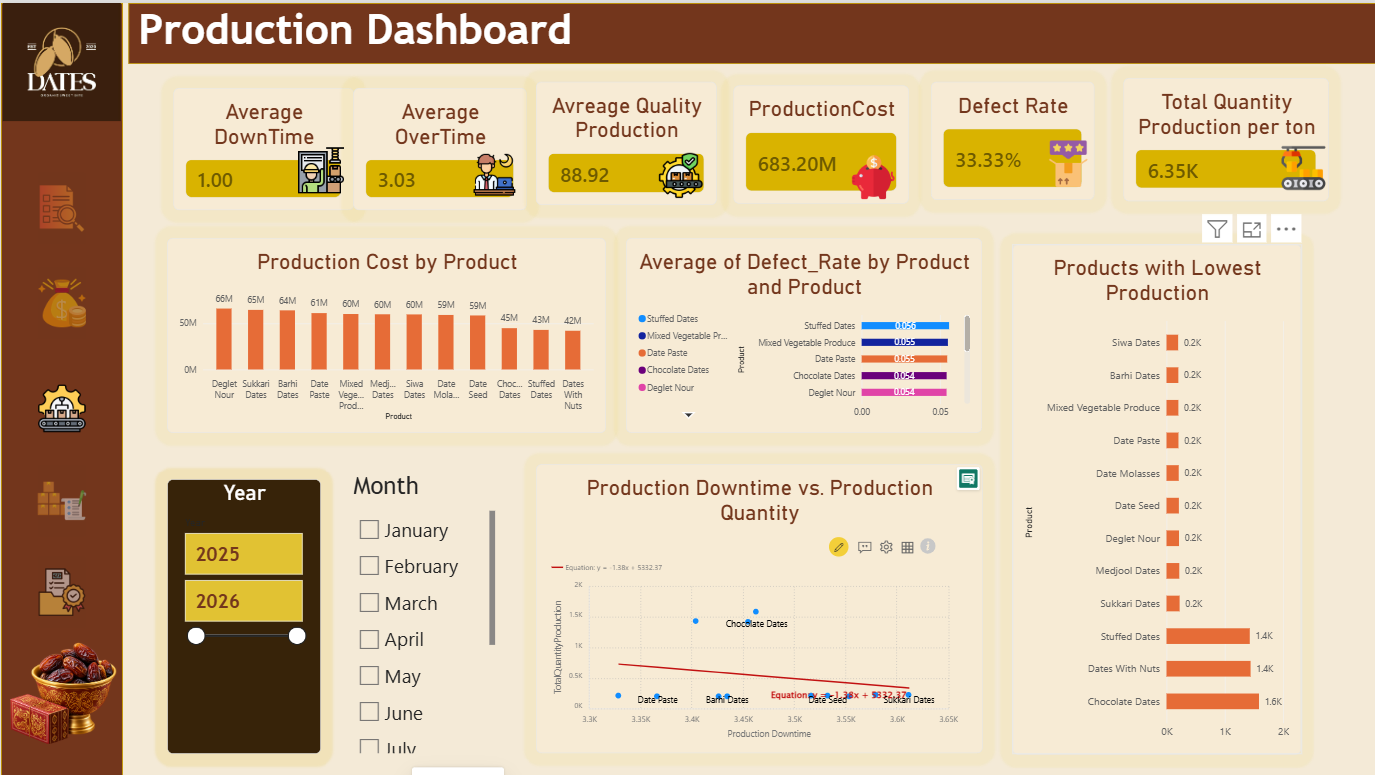

This screenshot's page, from the dashboard's own definition file:
{"tool":"powerbi","page":{"name":"Production","canvas":[1920,1080],"ordinal":2},"visuals":[{"type":"shape","box":[178,0,1741,85],"z":0},{"type":"shape","box":[0,0,170,1081],"z":1000},{"type":"image","box":[0,0,170,165],"z":2000},{"type":"textbox","title":"Production Dashboard","box":[191.7,1.7,741.7,116.7],"z":3000},{"type":"cardVisual","title":"Average DownTime","fields":{"Data":["MyMeasures.AVGDowntown"]},"box":[240,118.3,251.7,170],"z":4000},{"type":"cardVisual","title":"Average OverTime ","fields":{"Data":["MyMeasures.AVGOvertTime"]},"box":[491.7,118.3,241.7,170],"z":5000},{"type":"columnChart","title":"Production Cost by Product","fields":{"Category":["productDim.Product"],"Y":["MyMeasures.ProductioCost"]},"box":[232,327.9,612.2,272.1],"z":6000},{"type":"cardVisual","title":"Avreage Quality Production","fields":{"Data":["MyMeasures.AVGQuality"]},"box":[746,110,252,172],"z":8000},{"type":"image","box":[10.5,842.4,150,235.7],"z":9000},{"type":"barChart","title":"Products with Lowest Production","fields":{"Category":["productDim.Product"],"Y":["MyMeasures.TotalQuantityProduction"]},"box":[1411.7,336.7,403.3,711.7],"z":10000},{"type":"cardVisual","title":"ProductionCost","fields":{"Data":["MyMeasures.ProductioCost"]},"box":[1022.1,115.1,245,165],"z":11000},{"type":"image","box":[413.3,196.7,66.7,73.3],"z":12000},{"type":"image","box":[660,203.3,58.3,71.7],"z":13000},{"type":"image","box":[917.4,205.8,62.8,69.8],"z":14000},{"type":"cardVisual","title":"Defect Rate","fields":{"Data":["MyMeasures.DefectRate"]},"box":[1297.7,109.9,228.3,165],"z":15000},{"type":"image","box":[1453.3,191.7,73.3,64.5],"z":16000},{"type":"image","box":[1186,188.4,62.8,109.9],"z":17000},{"type":"cardVisual","title":"Total Quantity Production per ton","fields":{"Data":["MyMeasures.TotalQuantityProduction"]},"box":[1566.3,104.7,286.7,171.7],"z":18000},{"type":"image","box":[1782.6,197.1,69.8,66.3],"z":19000},{"type":"performanceBubbleChartFBAAA829CB604E5CAB4F21729F233294","title":"Production Downtime vs. Production Quantity","fields":{"ymeasure":["MyMeasures.TotalQuantityProduction"],"category":["productDim.Product"],"xmeasure":["MyMeasures.Production Downtime"]},"box":[747.1,644.3,622.9,402.9],"z":20000},{"type":"actionButton","box":[50.6,235.5,69,102],"z":21000},{"type":"actionButton","box":[50.6,368,69,102],"z":22000},{"type":"actionButton","box":[50.6,514.5,69,102],"z":23000},{"type":"actionButton","box":[50.6,770.9,69,102],"z":24000},{"type":"actionButton","box":[50.6,643.6,69,102],"z":25000},{"type":"slicer","title":"Year","fields":{"Values":["DateDim.Date.Variation.Date Hierarchy.Year"]},"box":[232.6,664.8,214.1,382.8],"z":26000},{"type":"slicer","title":"Month","fields":{"Values":["DateDim.Date.Variation.Date Hierarchy.Month"]},"box":[491.9,654.5,197.6,393.1],"z":27000},{"type":"barChart","fields":{"Category":["productDim.Product"],"Series":["productDim.Product"],"Y":["Avg(FactTransaction.Defect_Rate)"]},"box":[872.1,327.9,497.1,272.1],"z":27001}]}

Visuals, with their boxes in screenshot pixels (x1, y1, x2, y2), scaled from the page's 1920x1080 canvas onto the 1375x775 screenshot:
shape: detection(127, 0, 1374, 61)
shape: detection(0, 0, 122, 774)
image: detection(0, 0, 122, 118)
"Production Dashboard" textbox: detection(137, 1, 668, 85)
"Average DownTime" cardVisual: detection(172, 85, 352, 207)
"Average OverTime " cardVisual: detection(352, 85, 525, 207)
"Production Cost by Product" columnChart: detection(166, 235, 605, 431)
"Avreage Quality Production" cardVisual: detection(534, 79, 715, 202)
image: detection(8, 604, 115, 774)
"Products with Lowest Production" barChart: detection(1011, 242, 1300, 752)
"ProductionCost" cardVisual: detection(732, 83, 907, 201)
image: detection(296, 141, 344, 194)
image: detection(473, 146, 514, 197)
image: detection(657, 148, 702, 198)
"Defect Rate" cardVisual: detection(929, 79, 1093, 197)
image: detection(1041, 138, 1093, 184)
image: detection(849, 135, 894, 214)
"Total Quantity Production per ton" cardVisual: detection(1122, 75, 1327, 198)
image: detection(1277, 141, 1327, 189)
"Production Downtime vs. Production Quantity" performanceBubbleChartFBAAA829CB604E5CAB4F21729F233294: detection(535, 462, 981, 751)
actionButton: detection(36, 169, 86, 242)
actionButton: detection(36, 264, 86, 337)
actionButton: detection(36, 369, 86, 442)
actionButton: detection(36, 553, 86, 626)
actionButton: detection(36, 462, 86, 535)
"Year" slicer: detection(167, 477, 320, 752)
"Month" slicer: detection(352, 470, 494, 752)
barChart - productDim.Product x productDim.Product: detection(625, 235, 981, 431)
